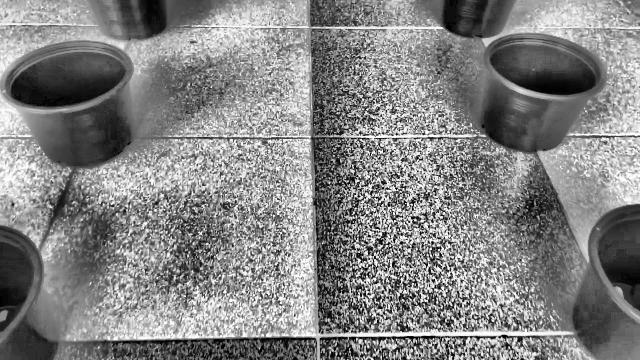pot: (0, 40, 137, 168), (479, 33, 608, 152)
